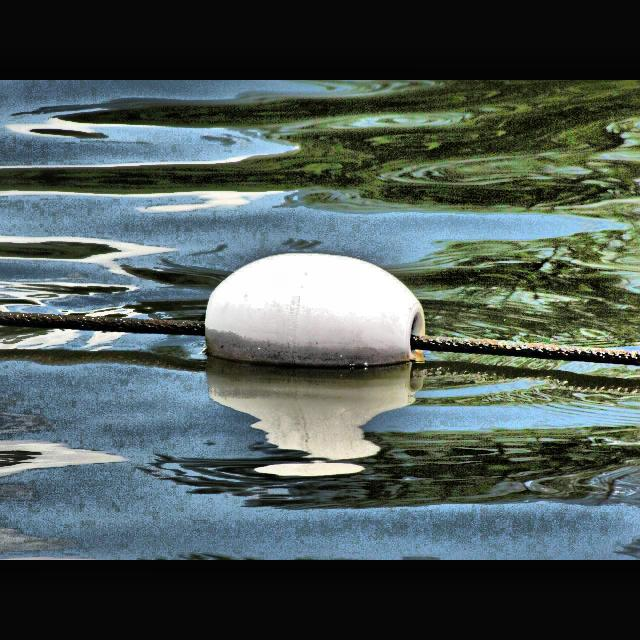buoy: (204, 250, 426, 374)
